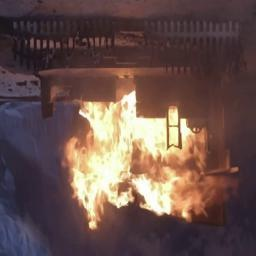fire: (63, 103, 221, 228)
